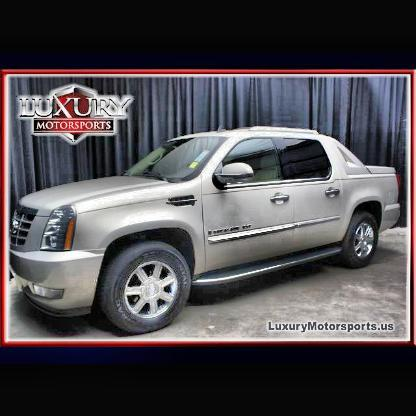Cadillac Escalade EXT Crew Cab 2007: (10, 125, 403, 334)
